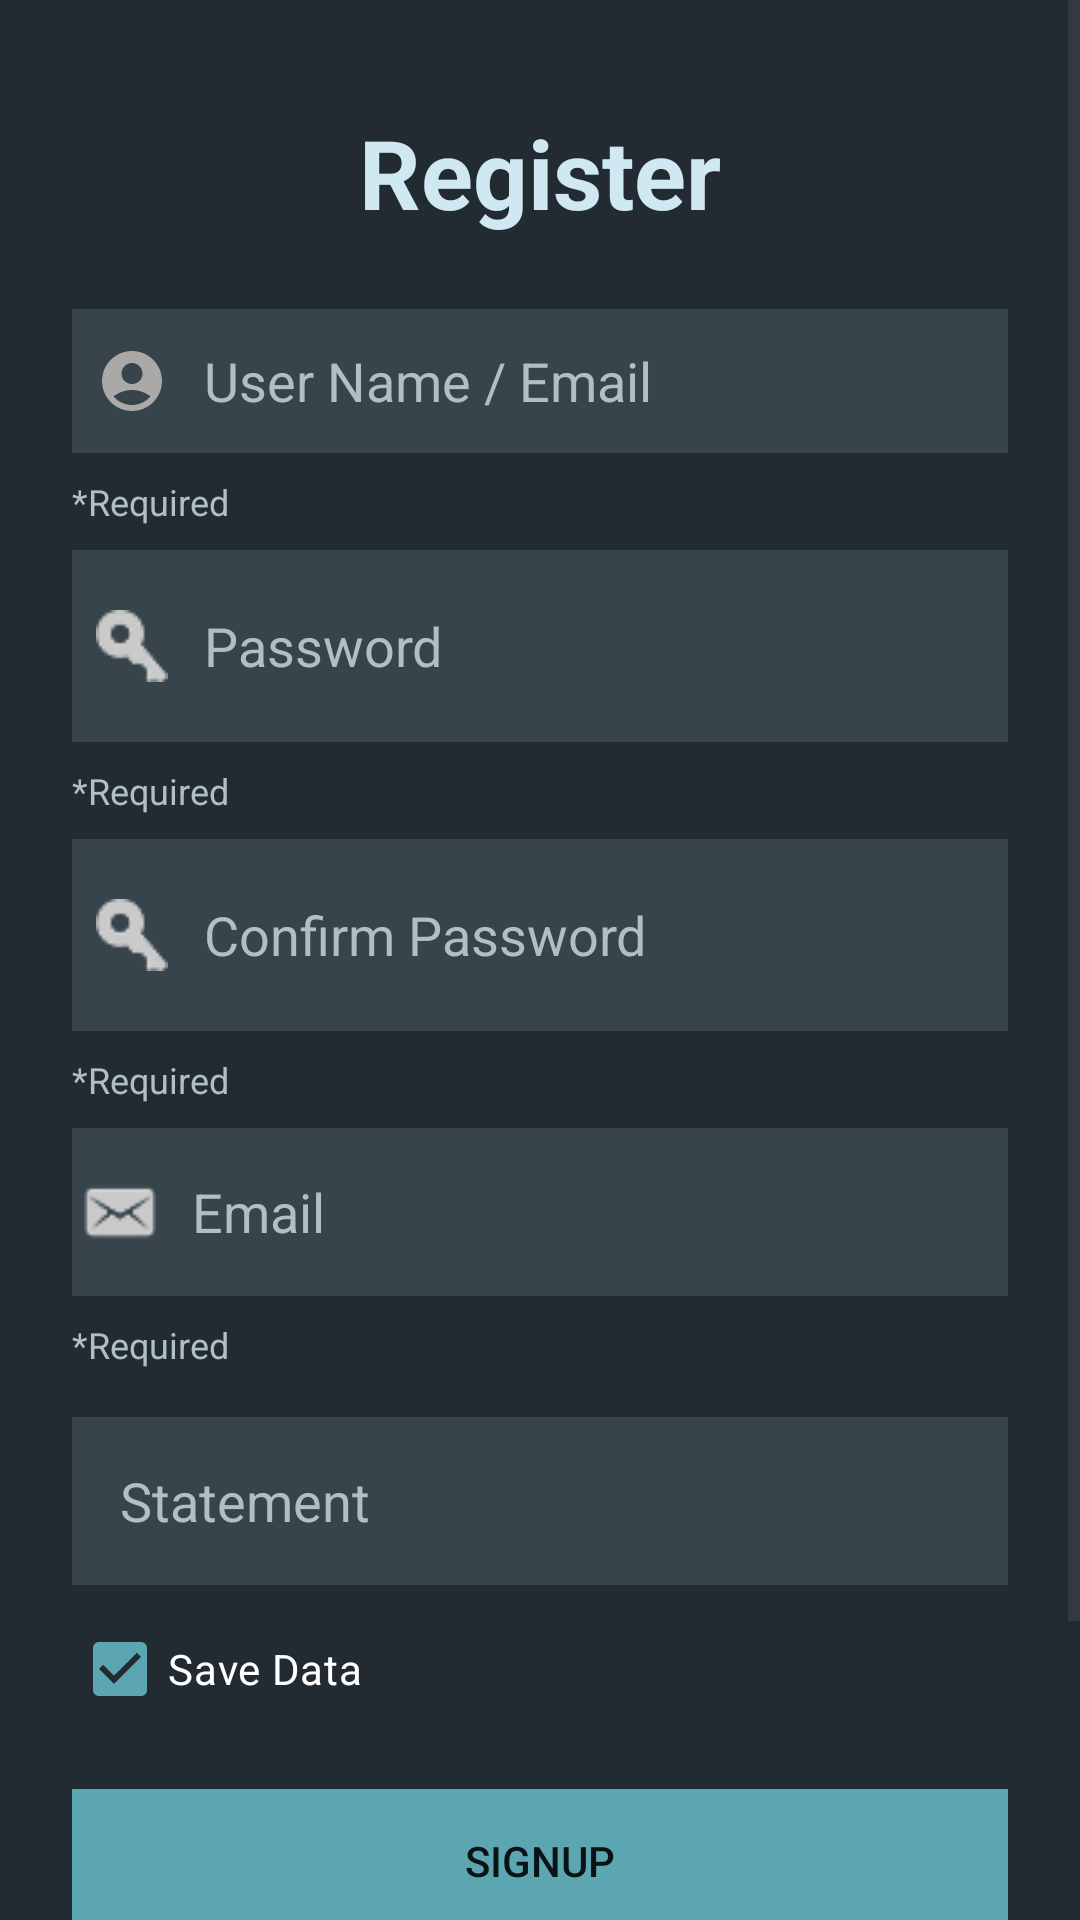

Icon bounding boxes for this 1080w x 1920h phone screenshot, format (left=x1, top=y1, right=x2, bottom=y2):
lock: (left=96, top=610, right=168, bottom=682), (left=96, top=899, right=168, bottom=971)
profile: (left=102, top=351, right=162, bottom=411)
